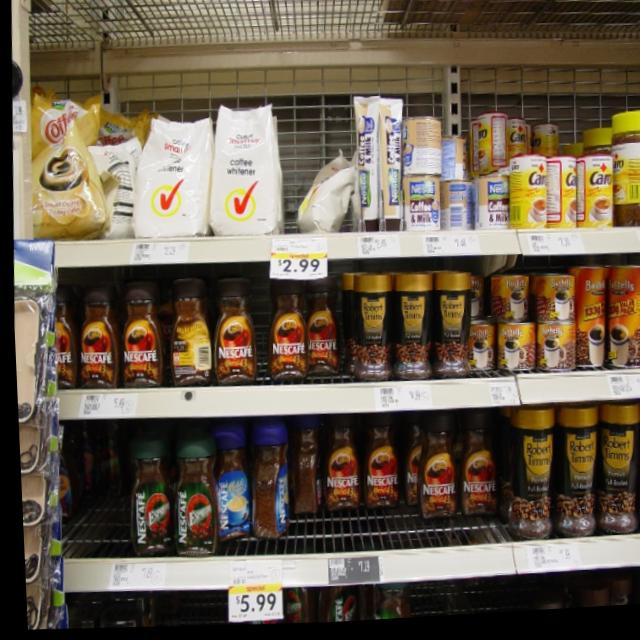q13: (64, 283, 121, 397), (112, 271, 162, 400), (201, 283, 257, 389), (408, 429, 459, 535), (264, 285, 310, 402), (352, 421, 398, 515), (300, 277, 339, 387), (453, 427, 492, 534), (320, 427, 362, 526)
